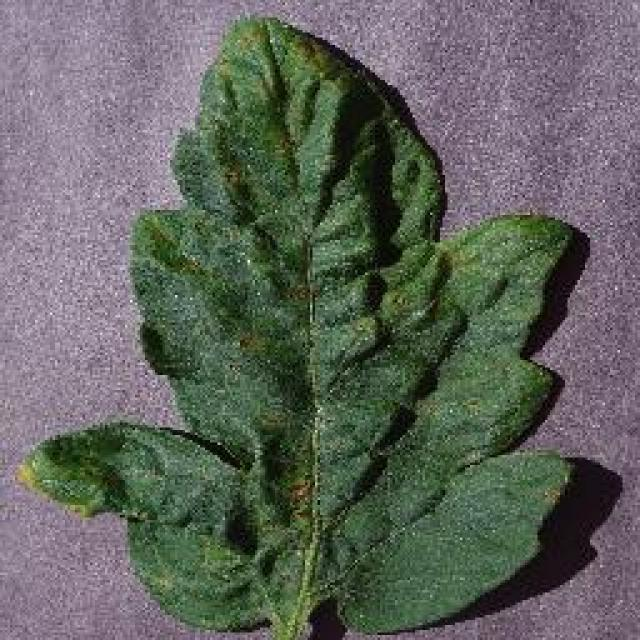Tomato___Target_Spot: (18, 18, 570, 638)
